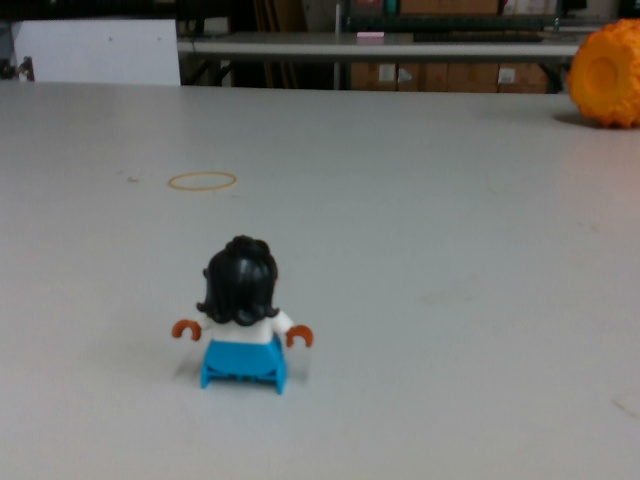people: (172, 233, 318, 398)
